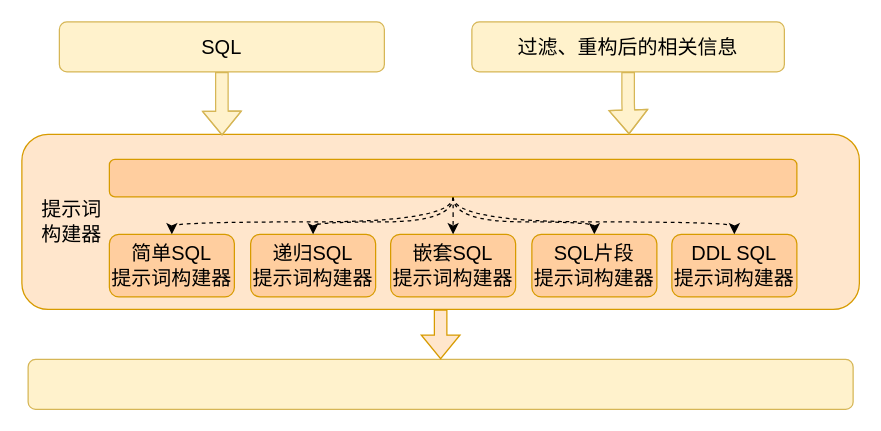
Image size: 881x431. Some labels were removed from this diagram. Here are the shapes that lost their labels. From the top down, the box of each, then its label:
(108, 158, 797, 197): 路由
(27, 358, 853, 409): 提示词
